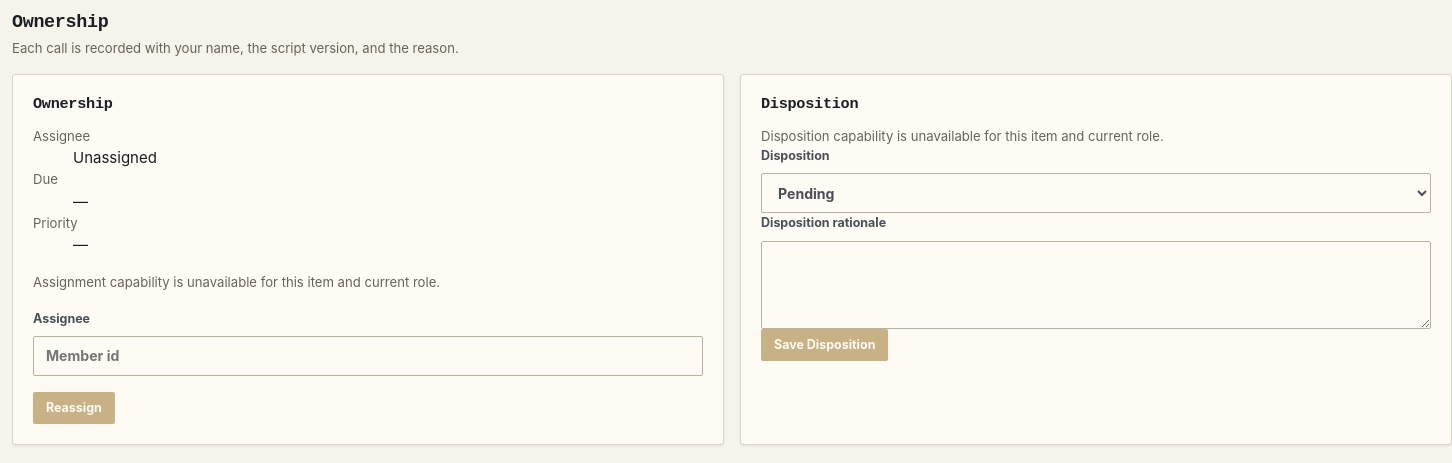
ItemGovernanceControls authoritative disposition › preserves the disposition rationale when the command is rejected
This screenshot has width=1452, height=463.
Select "Deferred for qualified review" in the dropdown labelled "Disposition": [1096, 193] box [761, 173, 1431, 213]
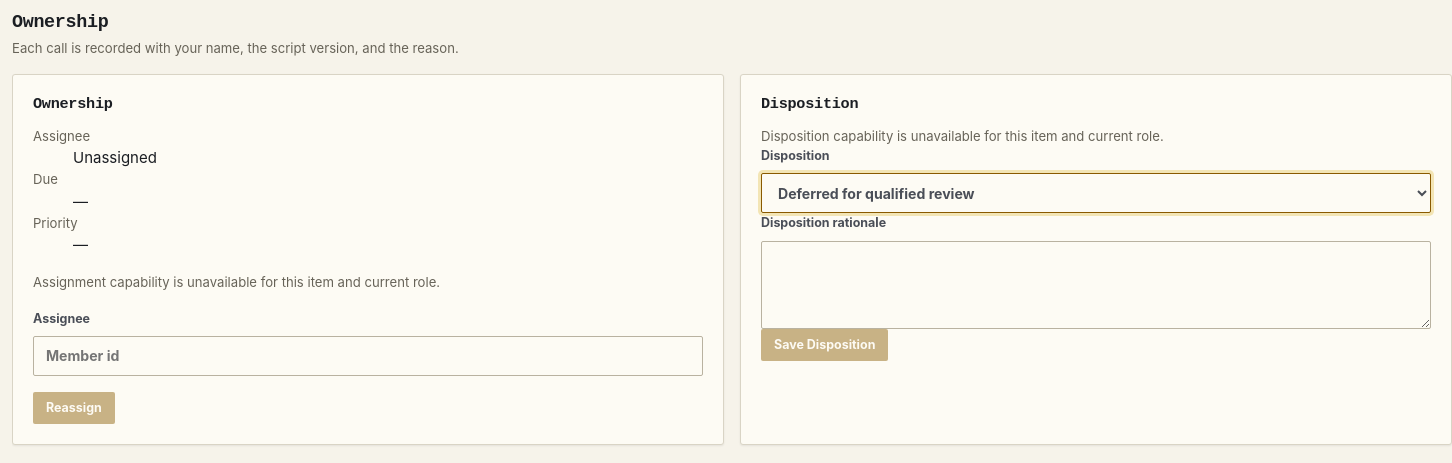
In the text box labelled "Disposition rationale": [1096, 285] box [761, 241, 1431, 329], type "Qualified review is still required."
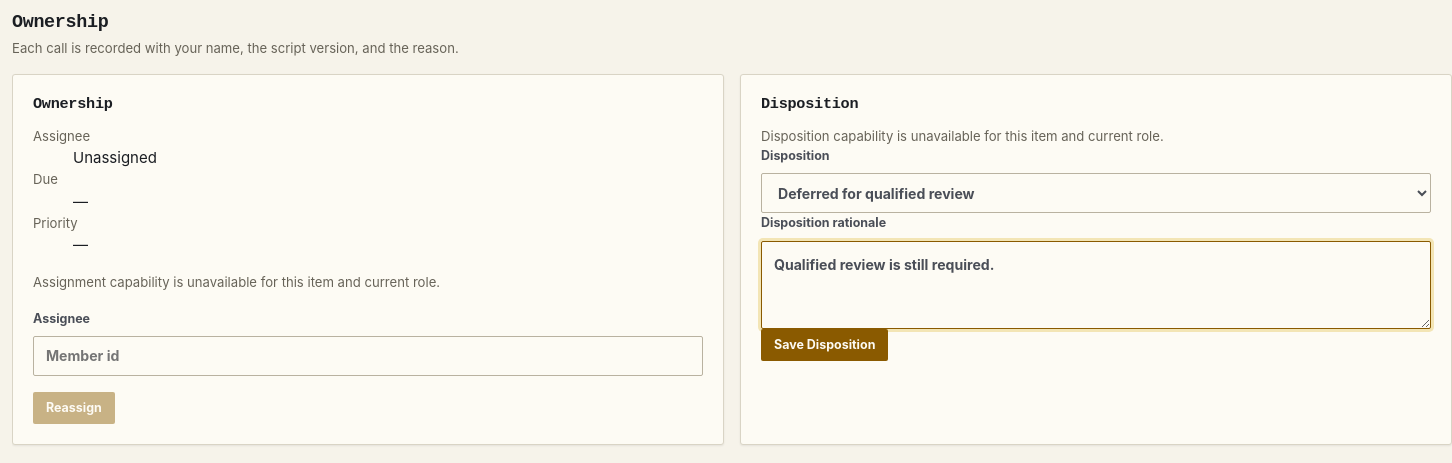
Click the button "Save Disposition": [825, 345] box [761, 329, 888, 361]
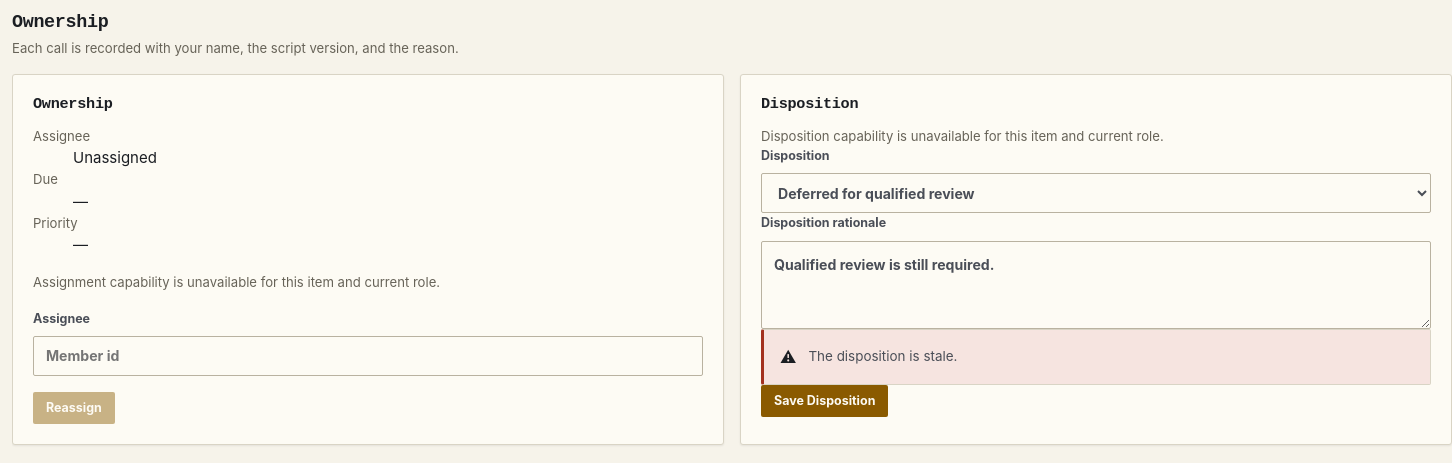
Now the message shows "stale", box [808, 348, 958, 364]
